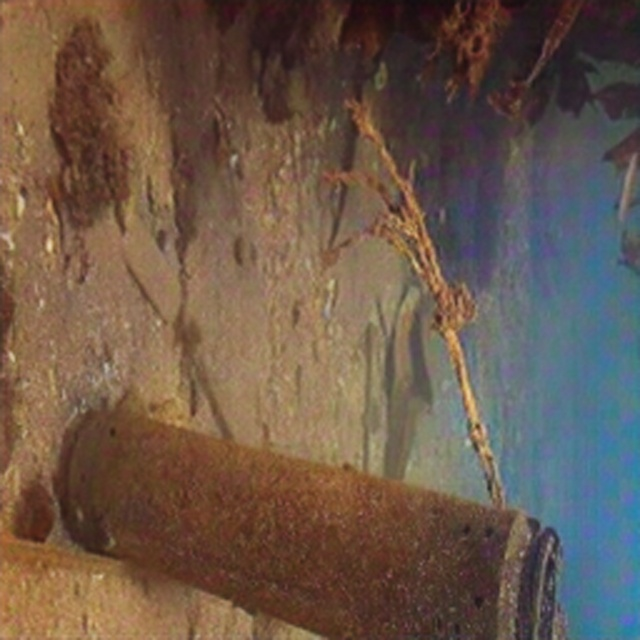mine: (53, 406, 561, 639)
